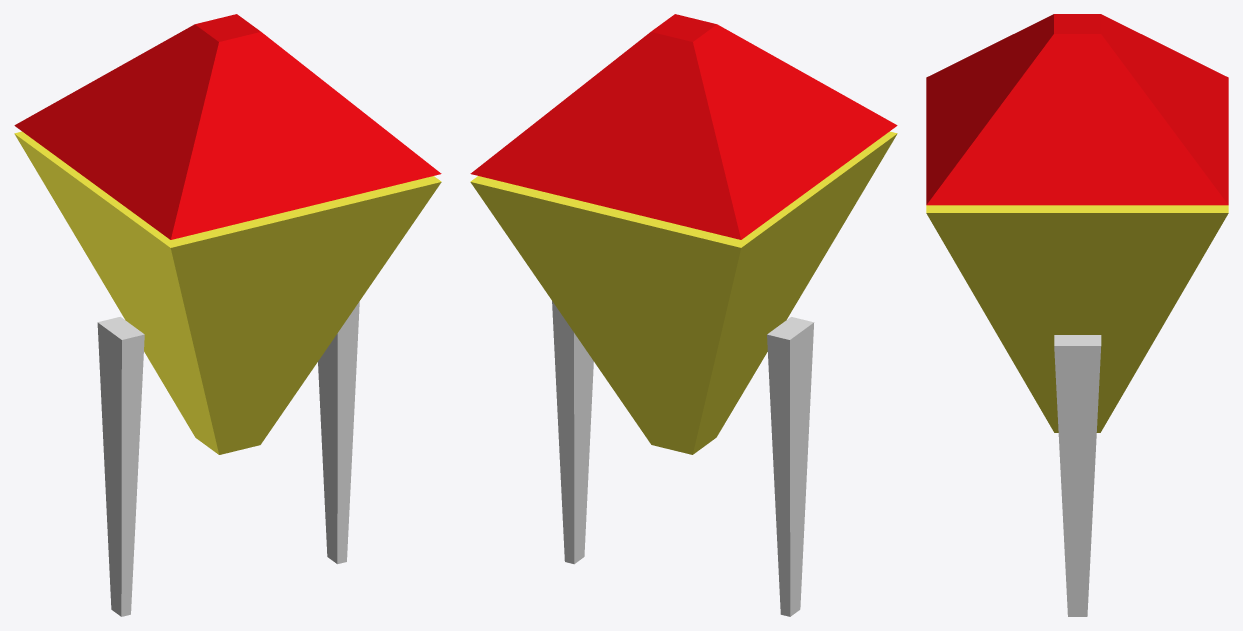
Rendered from cityboy_exp.fbx.
3 views of the same model, side by side, from view 1: azimuth 30°, elevation 25°; view 2: azimuth 150°, elevation 25°; view 3: azimuth 270°, elevation 25° (orthographic). The views are drawn at different scales.
Visible parts, largest first — view 1: cityboy; view 2: cityboy; view 3: cityboy.
Boxes of the visible parts, x1,y1,x2,y2 form: cityboy: (14, 14, 441, 616); cityboy: (470, 14, 897, 616); cityboy: (926, 14, 1228, 616).
Size of the model in its own units: 218 by 429 by 218.
